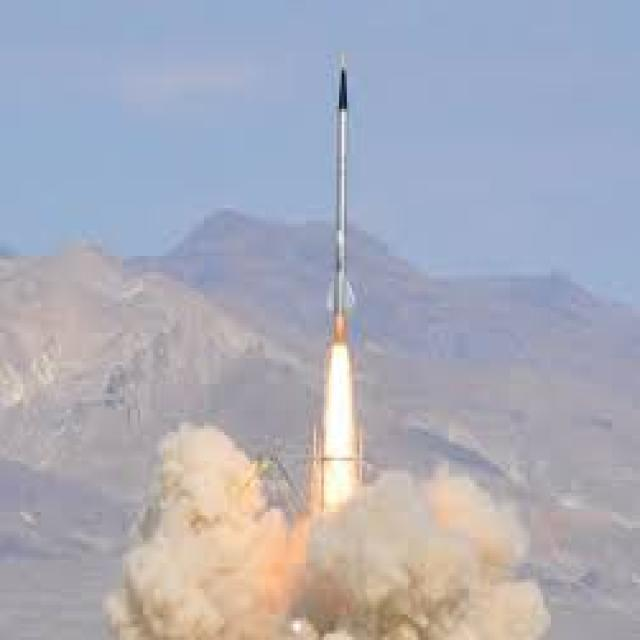Rocket: (323, 54, 359, 324)
